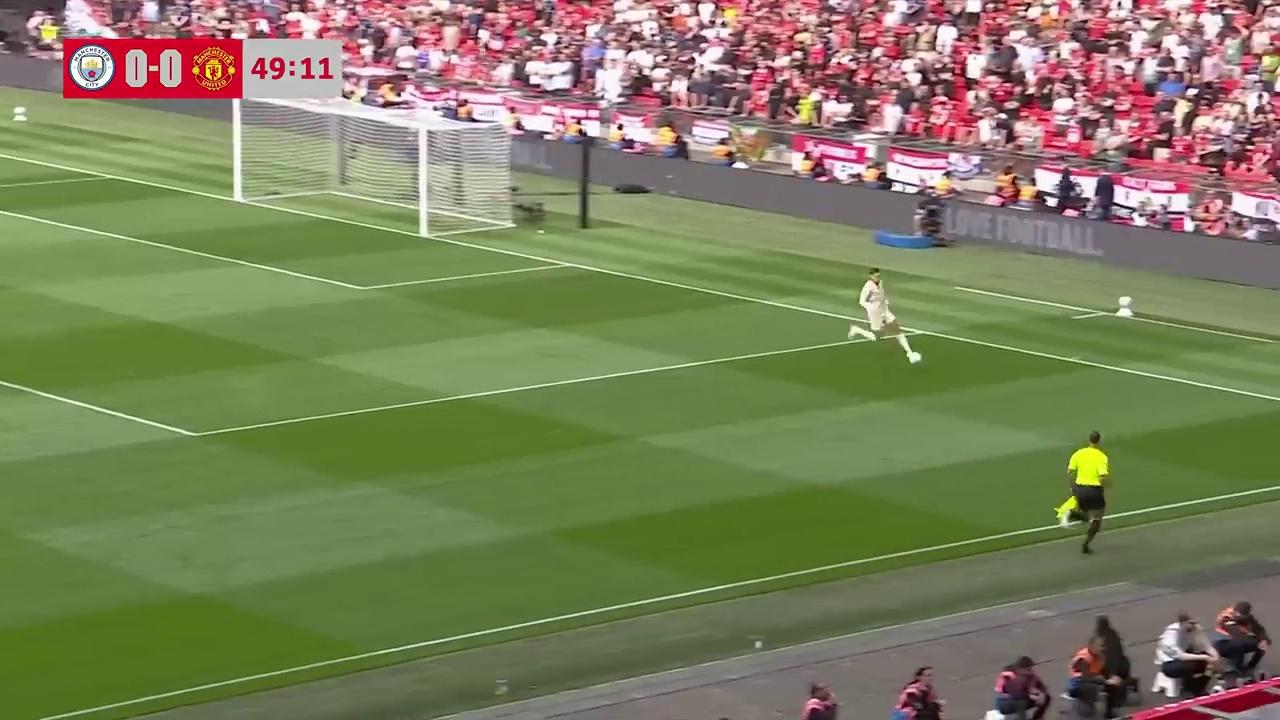ball: (908, 346, 926, 369)
player: (849, 268, 910, 353)
referee: (1061, 431, 1108, 555)
